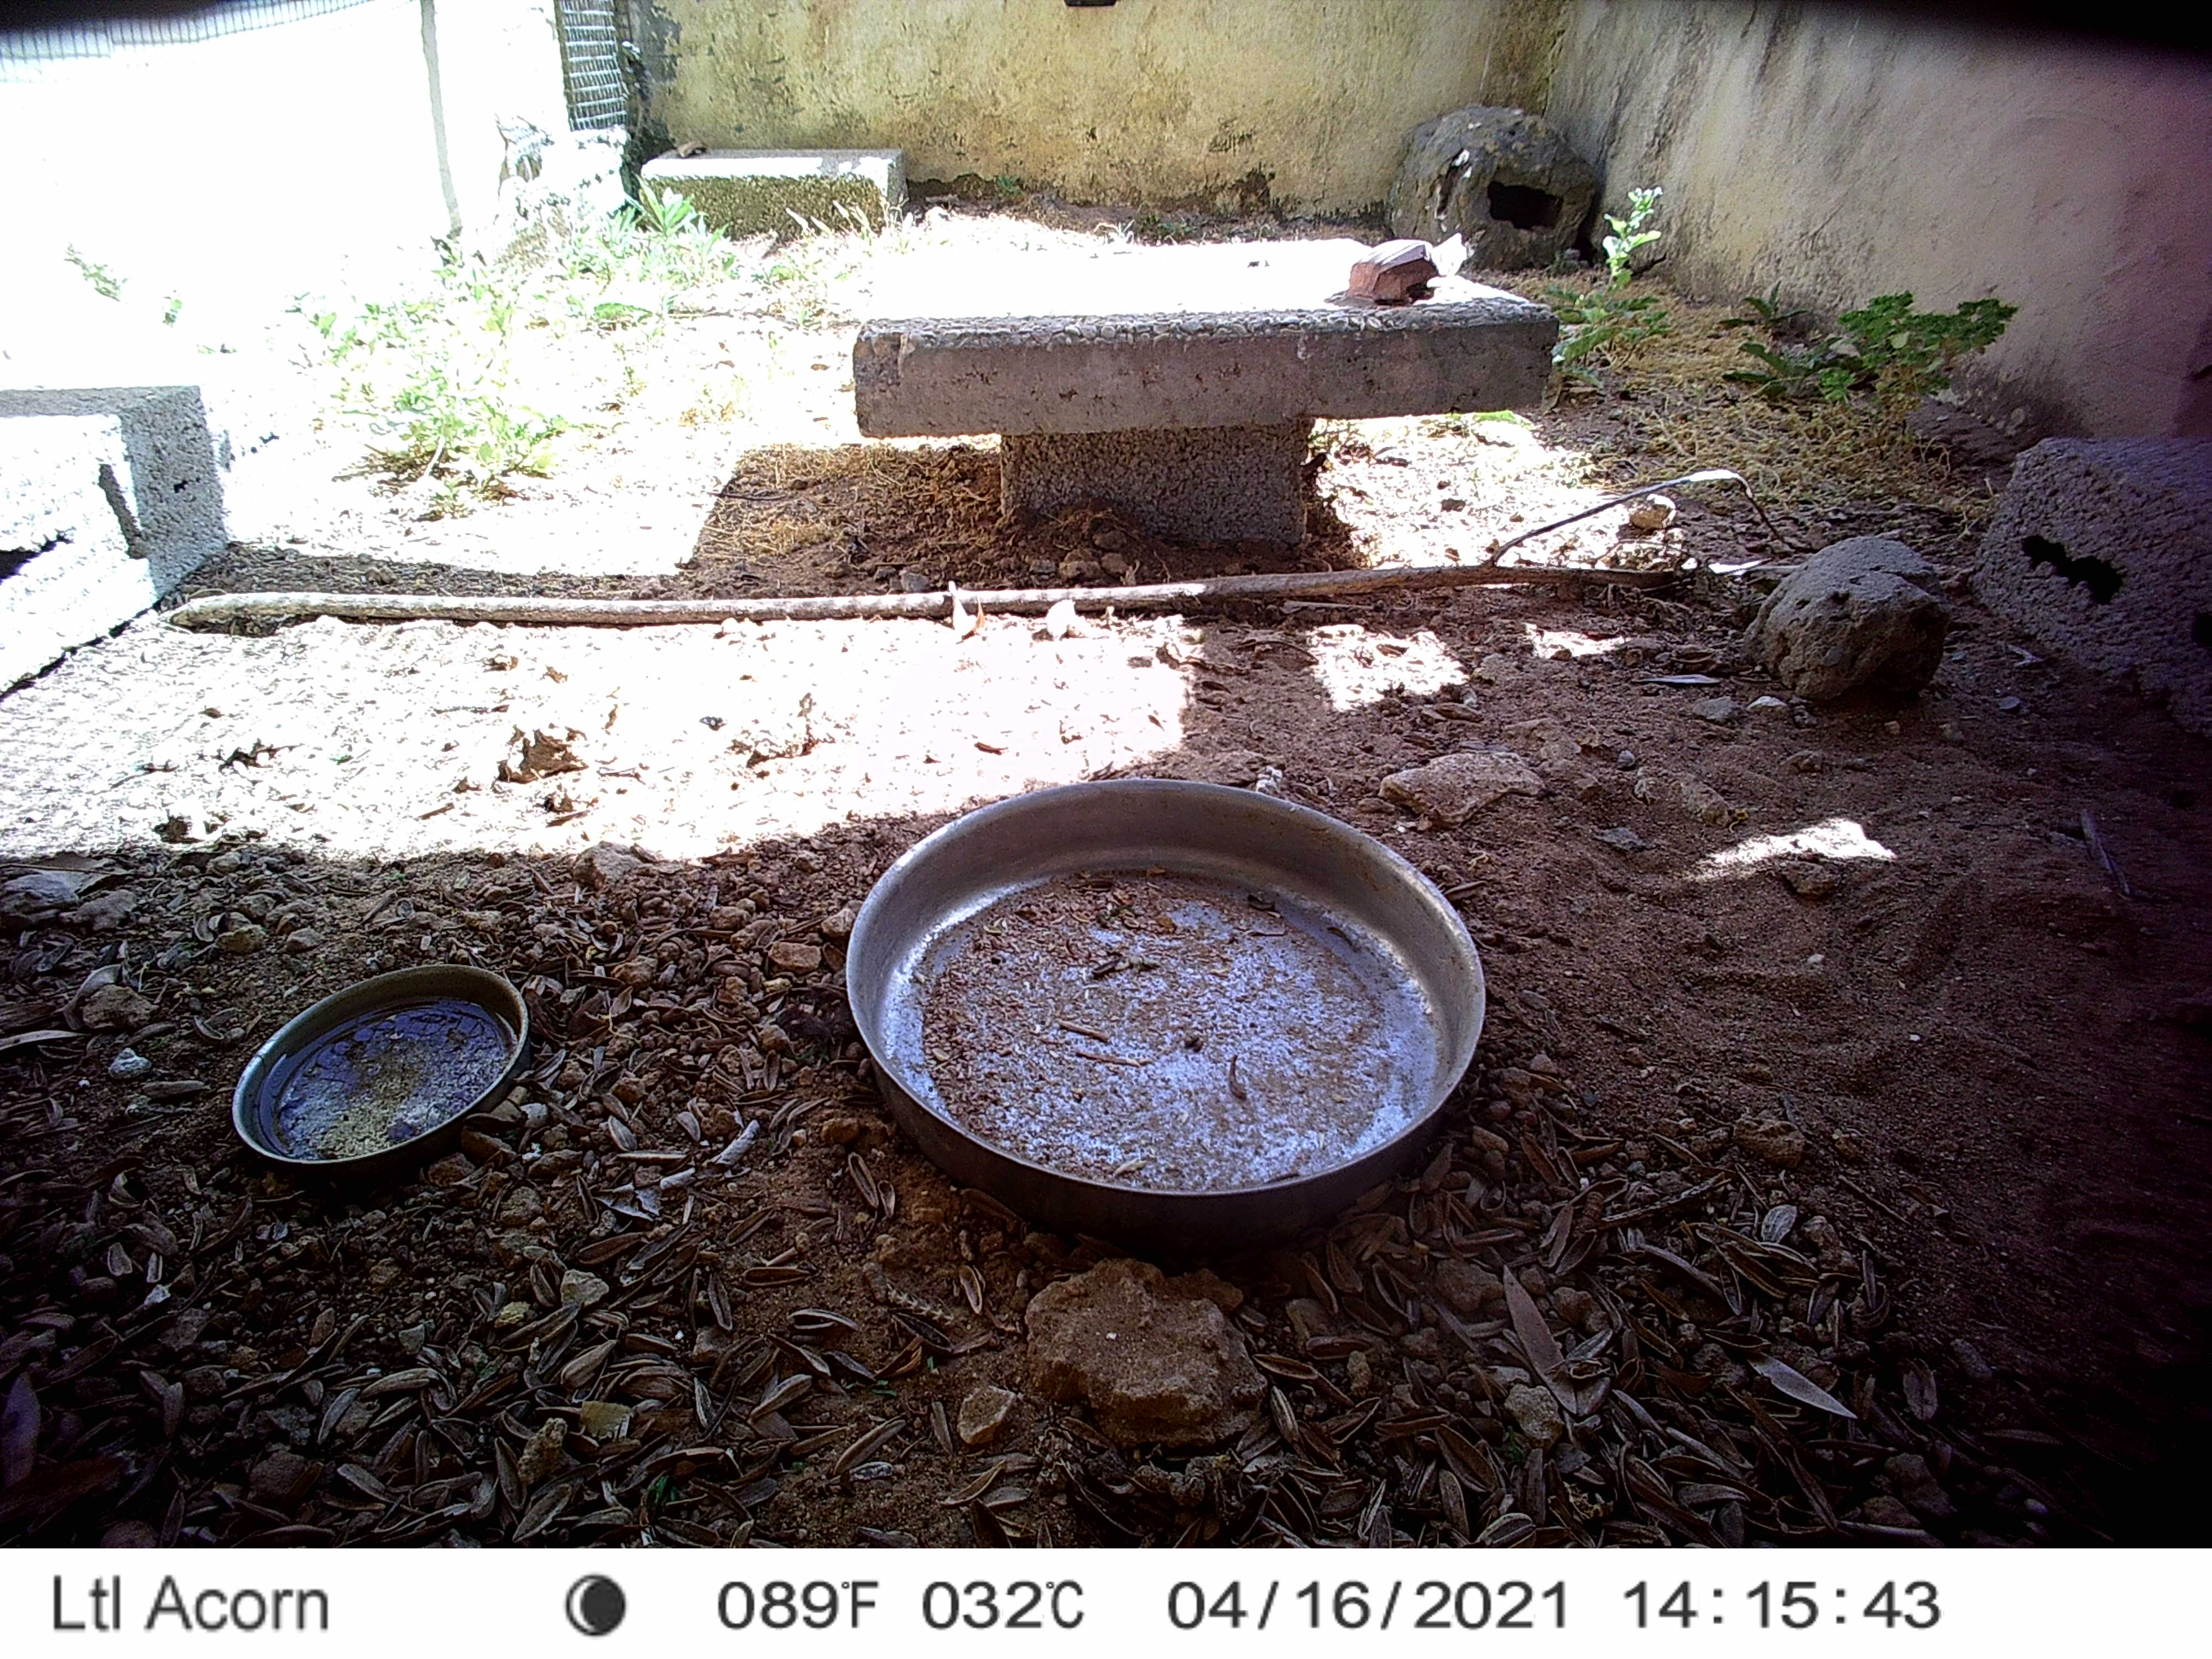lizard: (617, 38, 660, 195), (495, 112, 561, 199)
